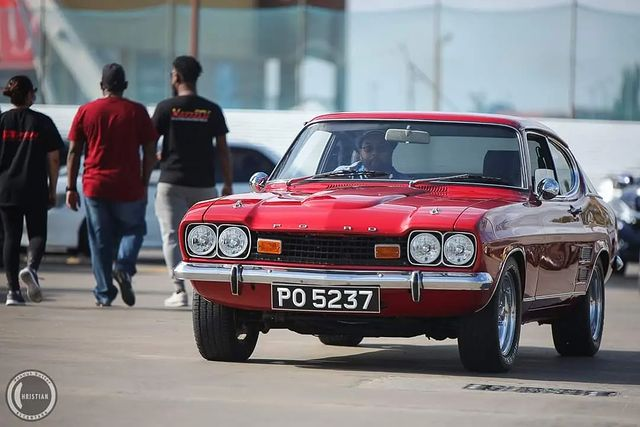License-Plate: (272, 284, 378, 308)
